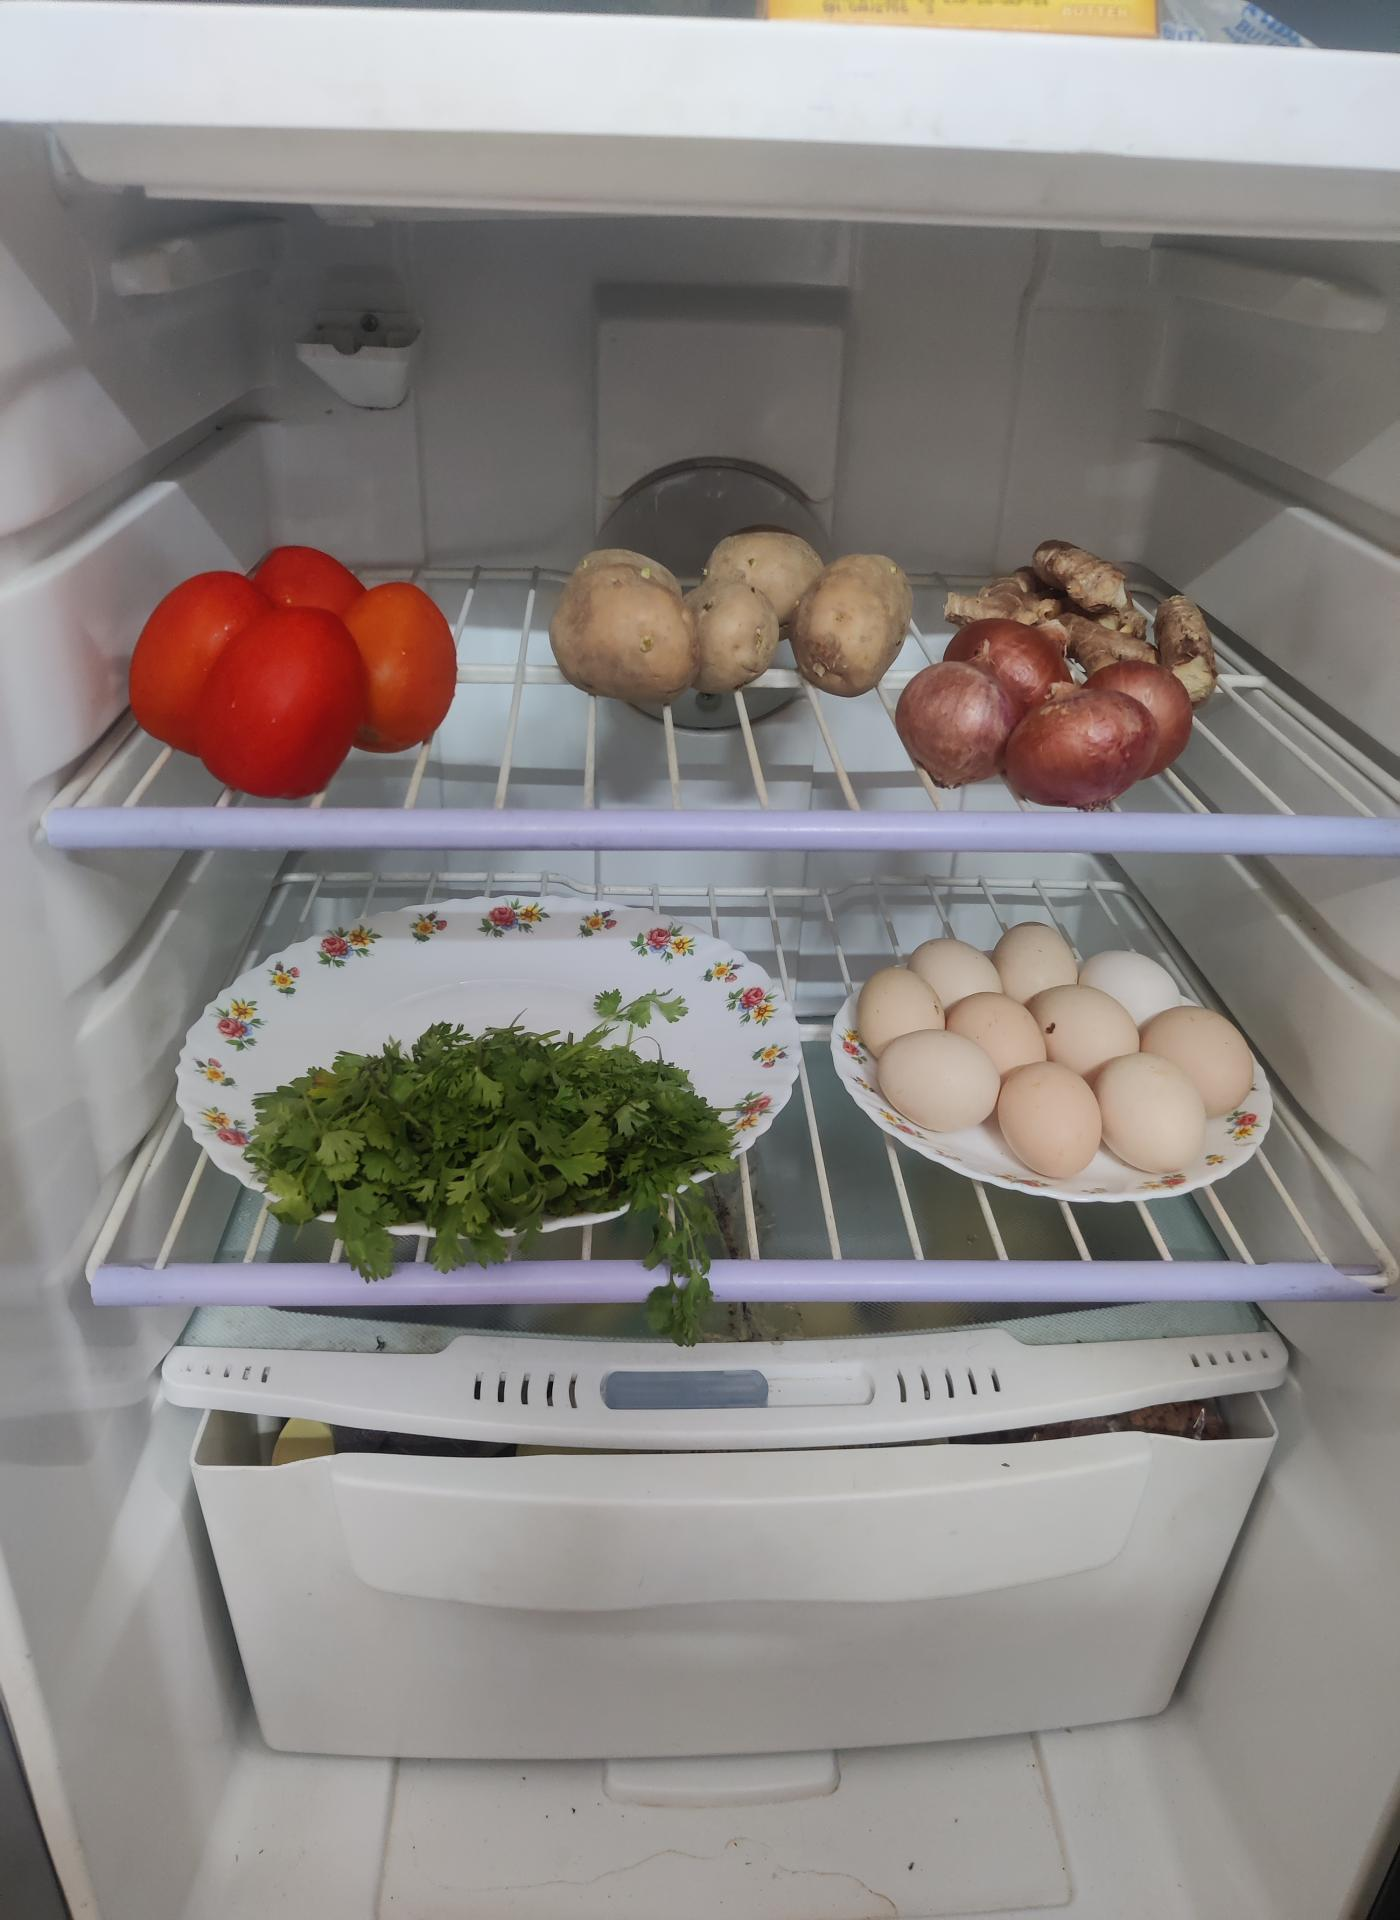coriander: (243, 1020, 737, 1248)
egg: (869, 932, 1267, 1200)
ginger: (938, 544, 1223, 677)
onion: (901, 625, 1188, 798)
potato: (556, 529, 923, 716)
tomato: (127, 538, 458, 790)
